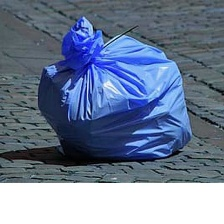plastic_bag: (35, 14, 194, 162)
